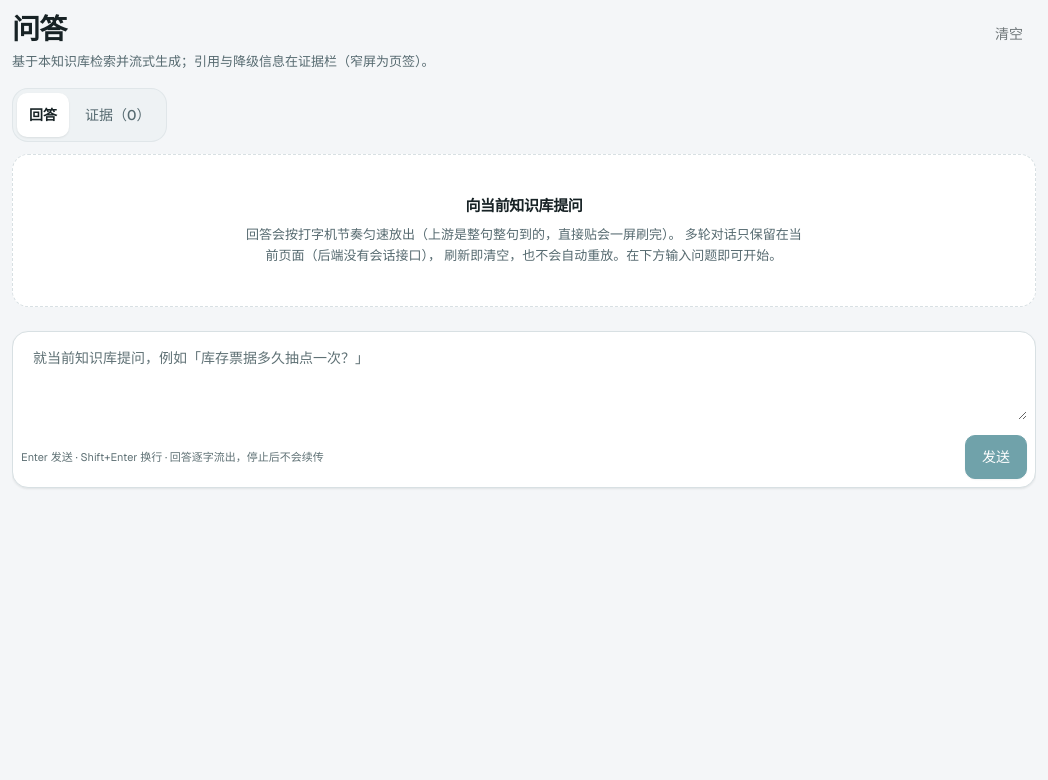
features/chat/ChatScreen › ABSTAINED：拒答要说明是'证据不足'，而不是伪装成一条正常回答
The image size is (1048, 780).
Step 1. Type "保修期几年？" into the text box named "问题" → (524, 380), box [21,340,1027,420]
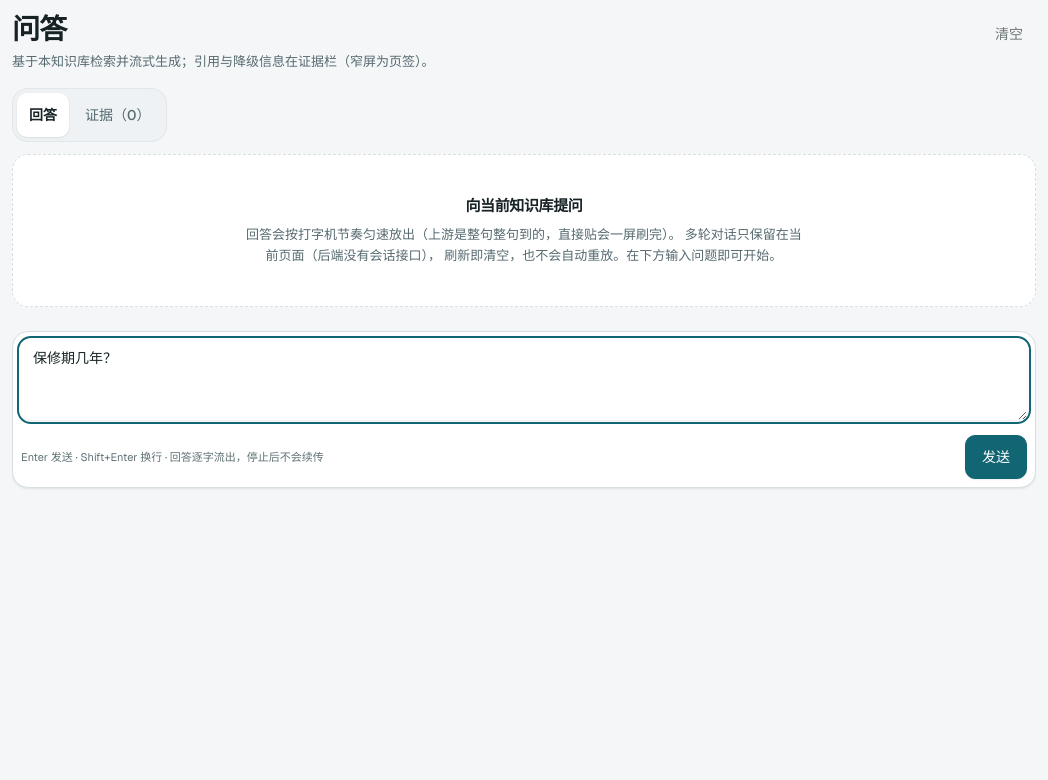
Step 2. Click the button "发送" → click(996, 457), box [965,435,1027,479]
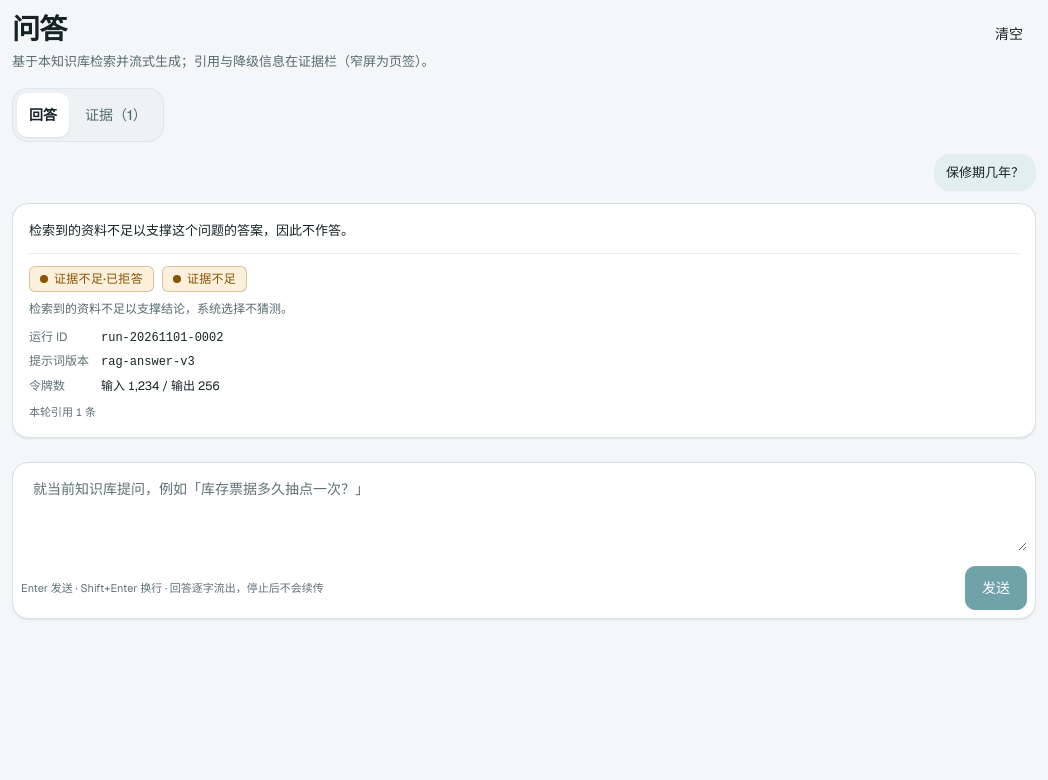
Expected: the text "证据不足·已拒答" is shown, [54,269,143,289]
Expected: the text "证据不足" is shown, [187,269,236,289]
Expected: the element with test id "answer-body" shows "资料不足以支撑", [29,222,354,239]
